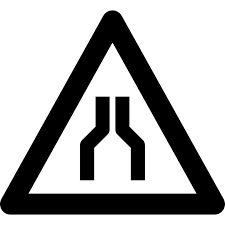Narrow_road: (1, 9, 225, 218)
